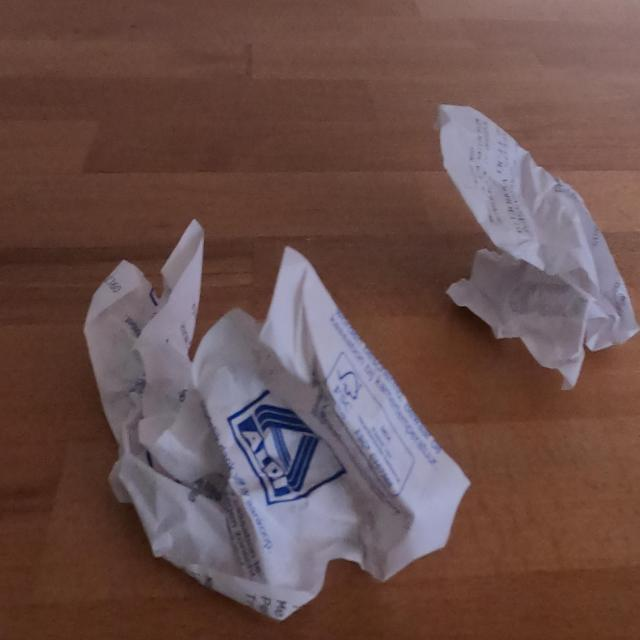Paper: (81, 212, 472, 624), (429, 100, 640, 398)
